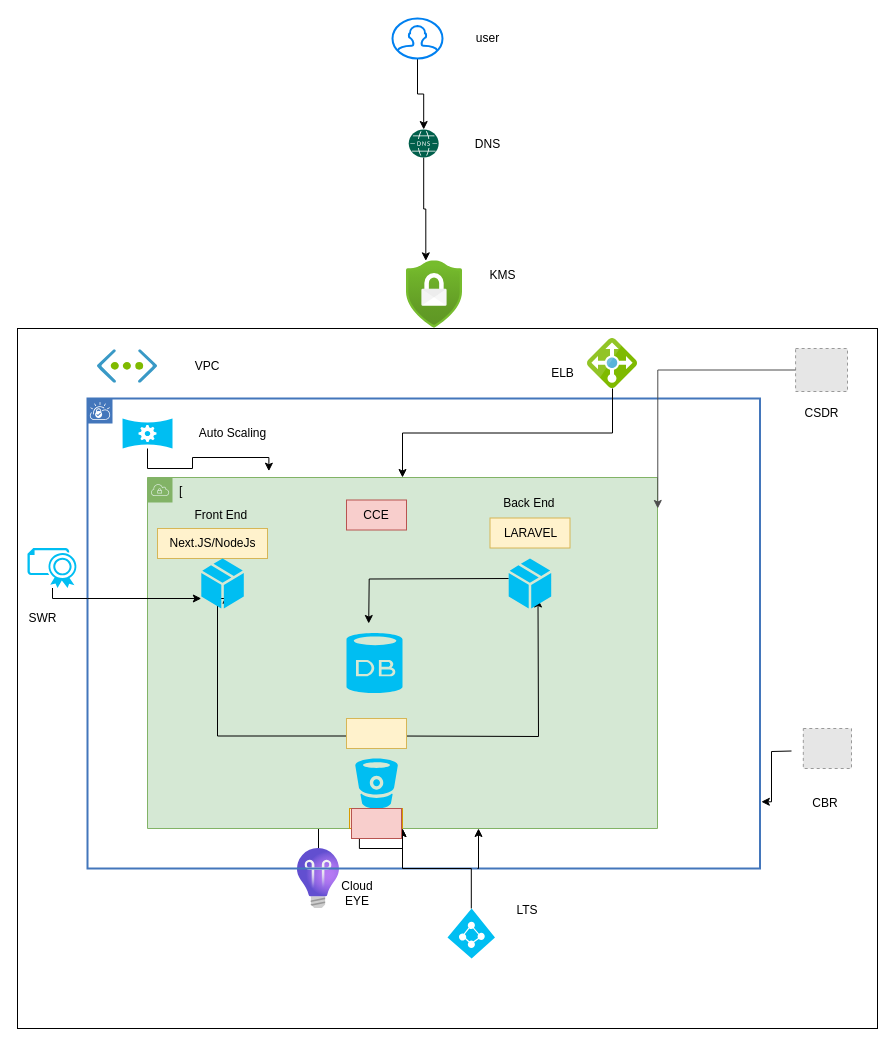
This 895x1046 diagram has some shape labels left out. Grey dashed boxes stand in for pictures. Here are the shapes that lost their labels. From the top down, the centre of each, then its label:
At (376,733): "Persistent Volume".
At (376,823): "RDS".
